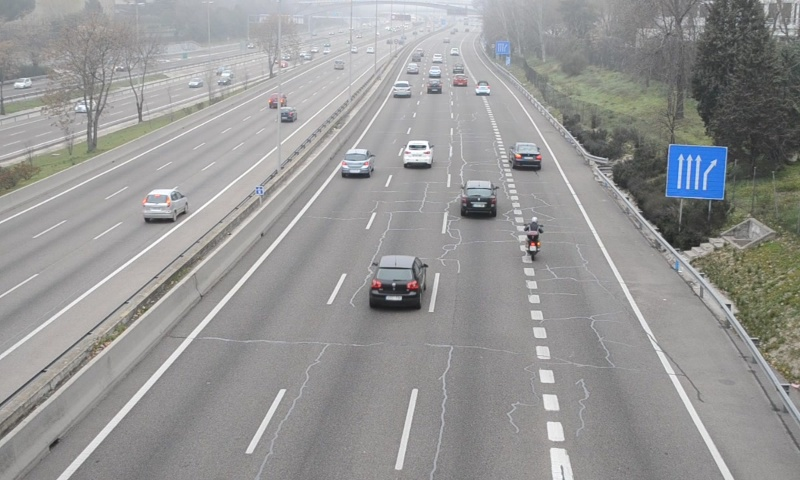car: (368, 255, 425, 309), (462, 180, 497, 216), (510, 142, 542, 169), (402, 140, 434, 167), (341, 148, 374, 174), (392, 80, 412, 99), (425, 78, 443, 93), (476, 80, 491, 96)
motorcycle: (522, 214, 545, 261)
